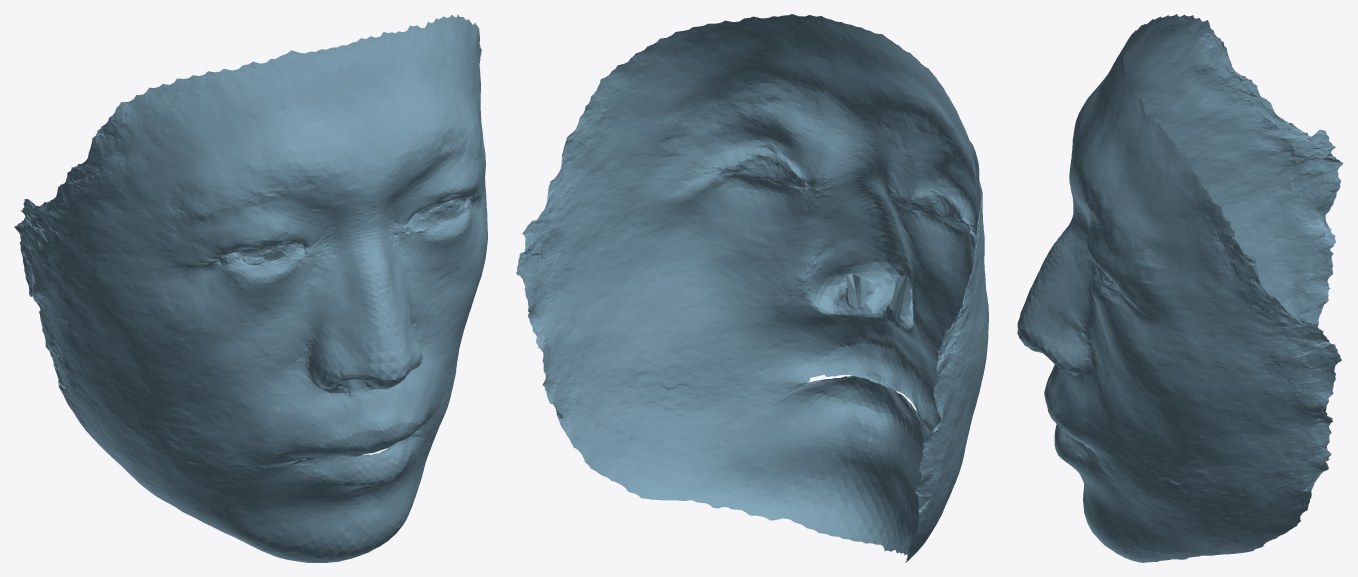
3 renders of one model, left to right at view 1: azimuth 30°, elevation 25°; view 2: azimuth 150°, elevation 25°; view 3: azimuth 270°, elevation 25°, orthographic. The views are drawn at different scales.
Size of the model in its own units: 1.45 by 1.69 by 1.02.
